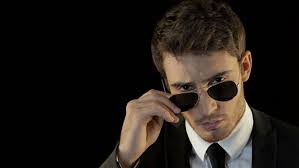white_male: (145, 25, 247, 137)
